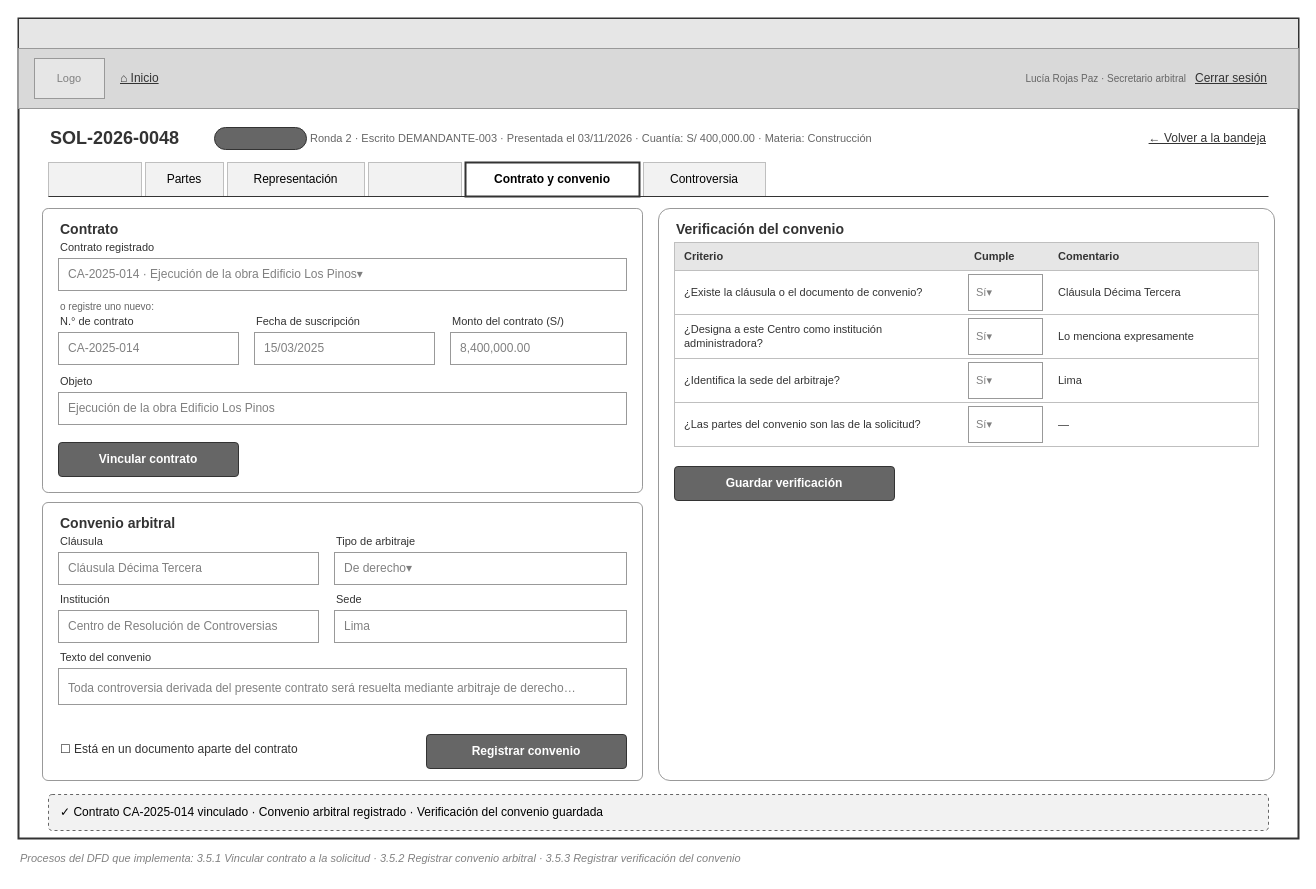
This 1316x889 diagram has some shape labels left out. Here are the shapes that lost their labels. From the top down, the centre of each, then its label:
point (658, 33): ● ● ● gsa.centro.pe/calificacion/contrato
point (260, 138): En revisión
point (95, 179): Revisión
point (415, 179): Abogados
